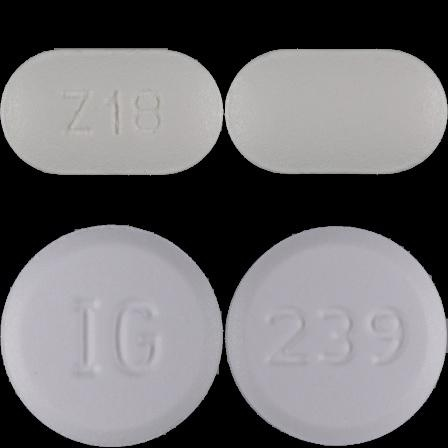35356-773: (0, 0, 224, 224)
